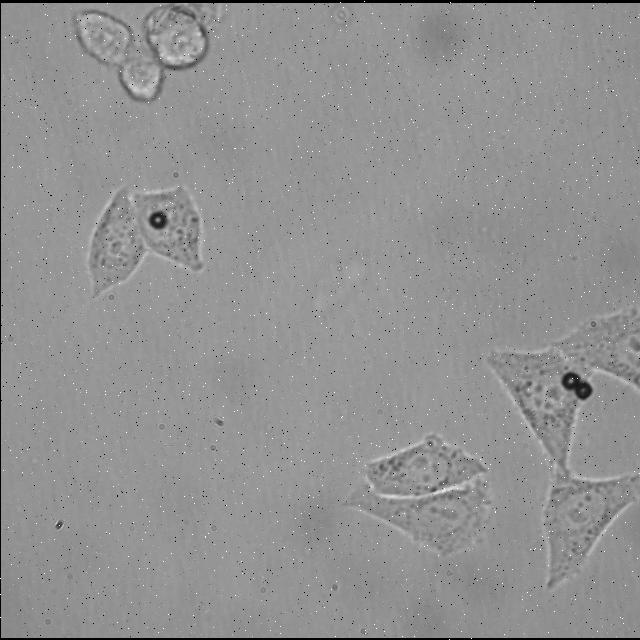microbeads: (572, 380, 594, 400), (560, 370, 580, 390), (148, 210, 166, 228)
